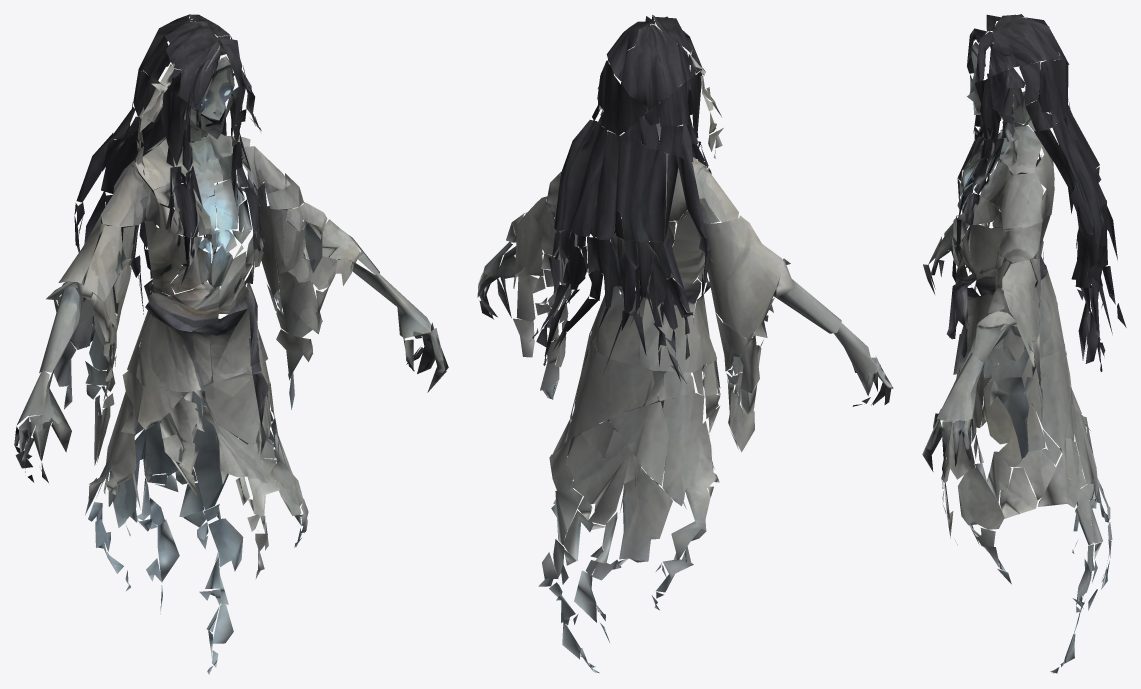
File: river-ghost-volume-20261002-v1.glb
3 renders of one model, left to right at view 1: azimuth 30°, elevation 25°; view 2: azimuth 150°, elevation 25°; view 3: azimuth 270°, elevation 25°, orthographic. The views are drawn at different scales.
Visible parts, largest first — view 1: tripo_node_9c2501ef-6a1b-4561-b997-99fa7bf45798; view 2: tripo_node_9c2501ef-6a1b-4561-b997-99fa7bf45798; view 3: tripo_node_9c2501ef-6a1b-4561-b997-99fa7bf45798.
Part boxes in pixels (box(x1,y1,x2,y2)): tripo_node_9c2501ef-6a1b-4561-b997-99fa7bf45798: box(14, 14, 448, 674); tripo_node_9c2501ef-6a1b-4561-b997-99fa7bf45798: box(477, 15, 893, 672); tripo_node_9c2501ef-6a1b-4561-b997-99fa7bf45798: box(922, 14, 1126, 673).
Bounding box in the file's own units: 0.646 × 0.9784 × 0.2806.
Materials: 1 (1 with a texture image).
